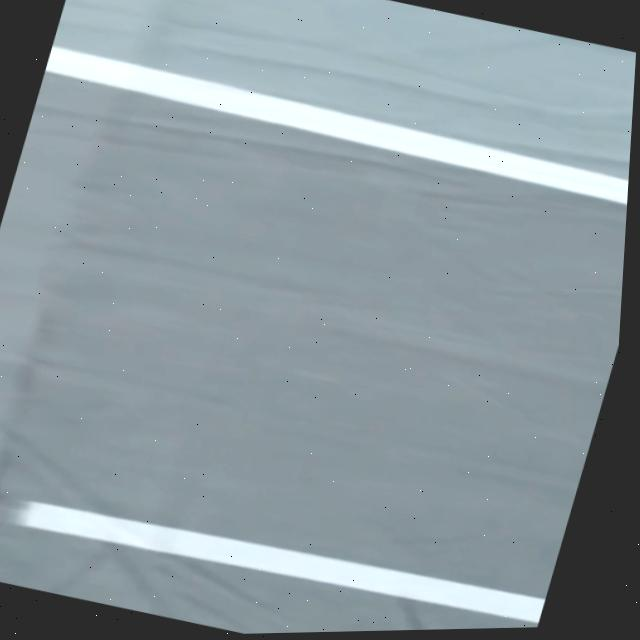center: (14, 499, 545, 621)
left: (45, 45, 629, 203)
